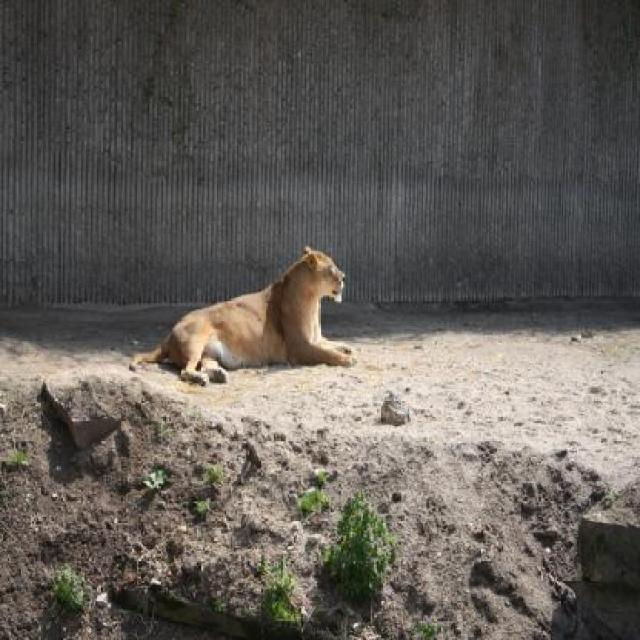Lion: (106, 231, 371, 391)
